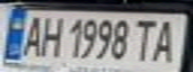1: (63, 15, 84, 58)
8: (112, 16, 133, 62)
9: (78, 15, 100, 60), (96, 16, 115, 61)
A: (148, 16, 184, 64), (18, 12, 48, 59)
H: (36, 14, 66, 58)
T: (130, 16, 160, 62)
